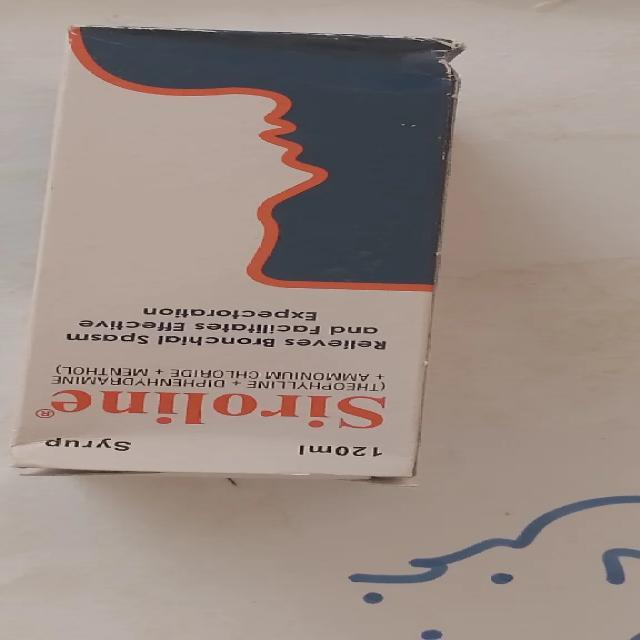drug-name: (50, 386, 392, 431)
